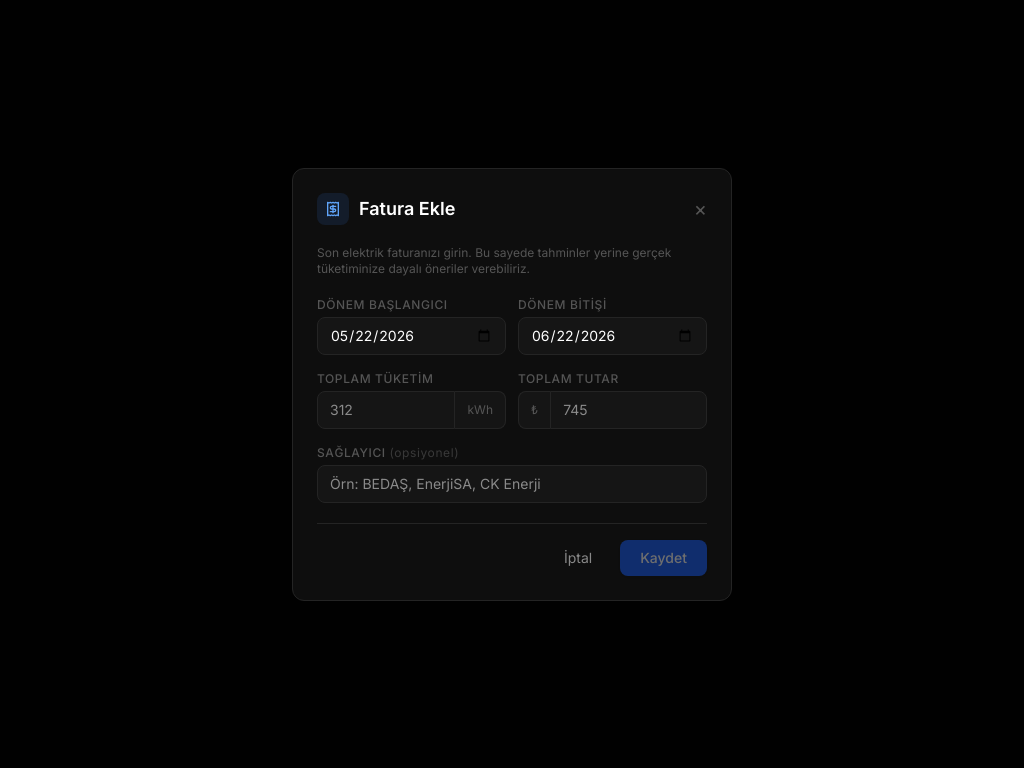
Test case: BillEntryModal › shows generic error on other failures
Type "300" into the number field with placeholder "312" at (386, 410), box left=317, top=390, right=456, bottom=428
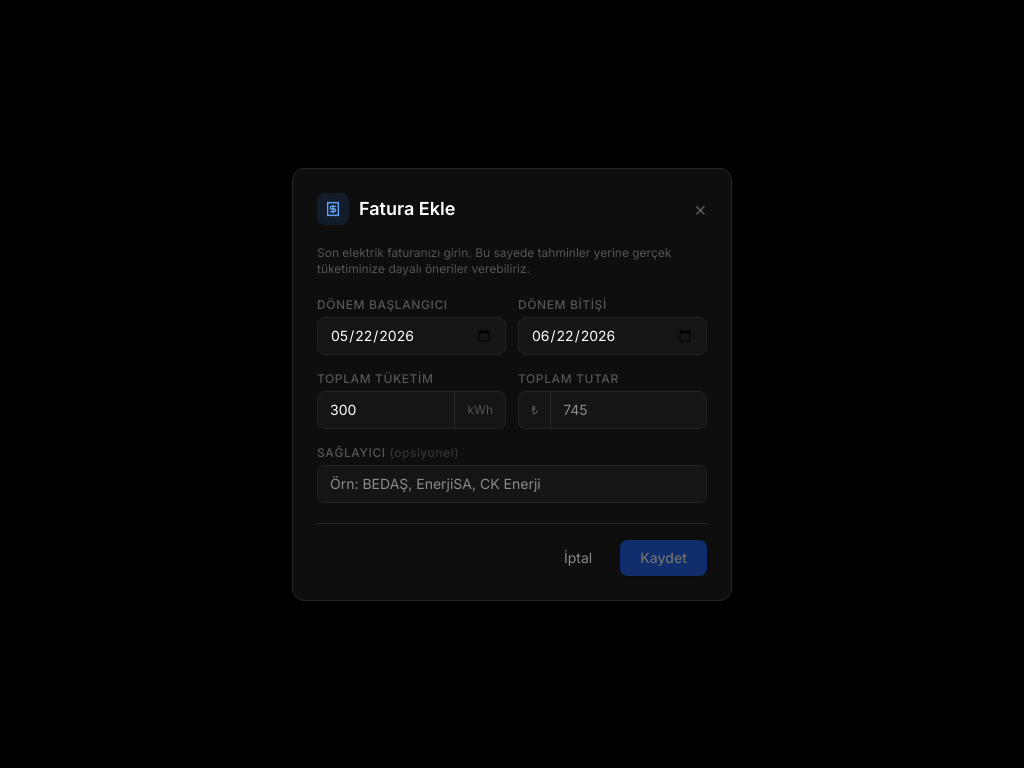
Type "900" into the number field with placeholder "745" at (629, 410), box left=550, top=390, right=707, bottom=428
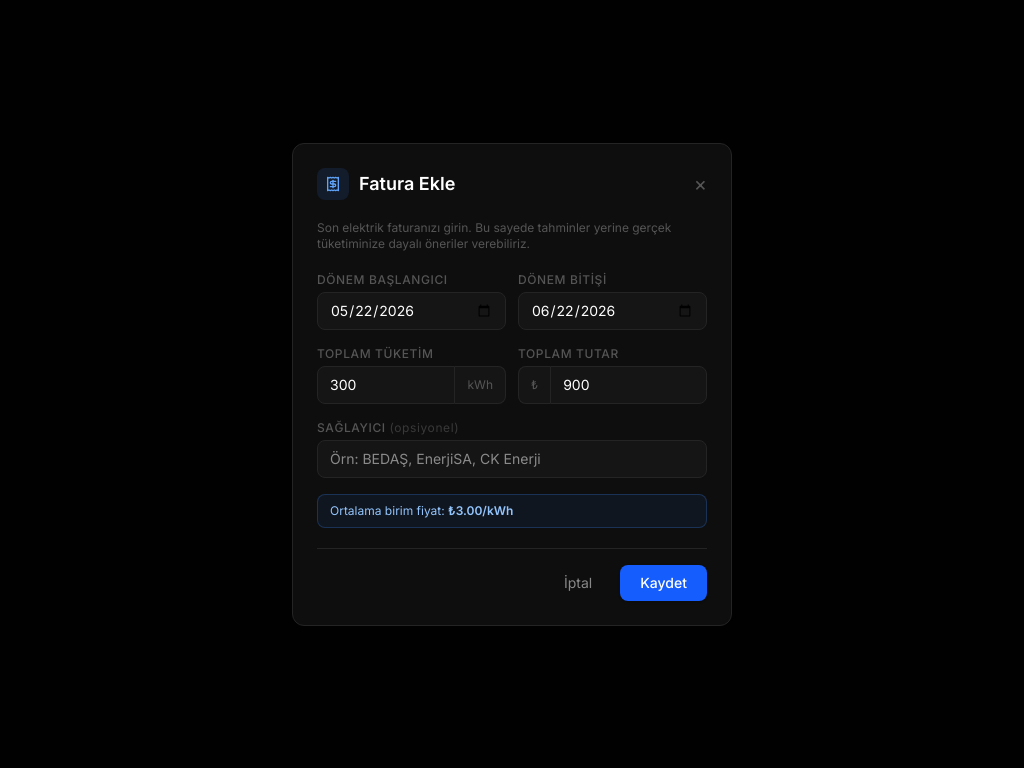
Click the button "Kaydet" at (664, 582), box left=620, top=564, right=707, bottom=600
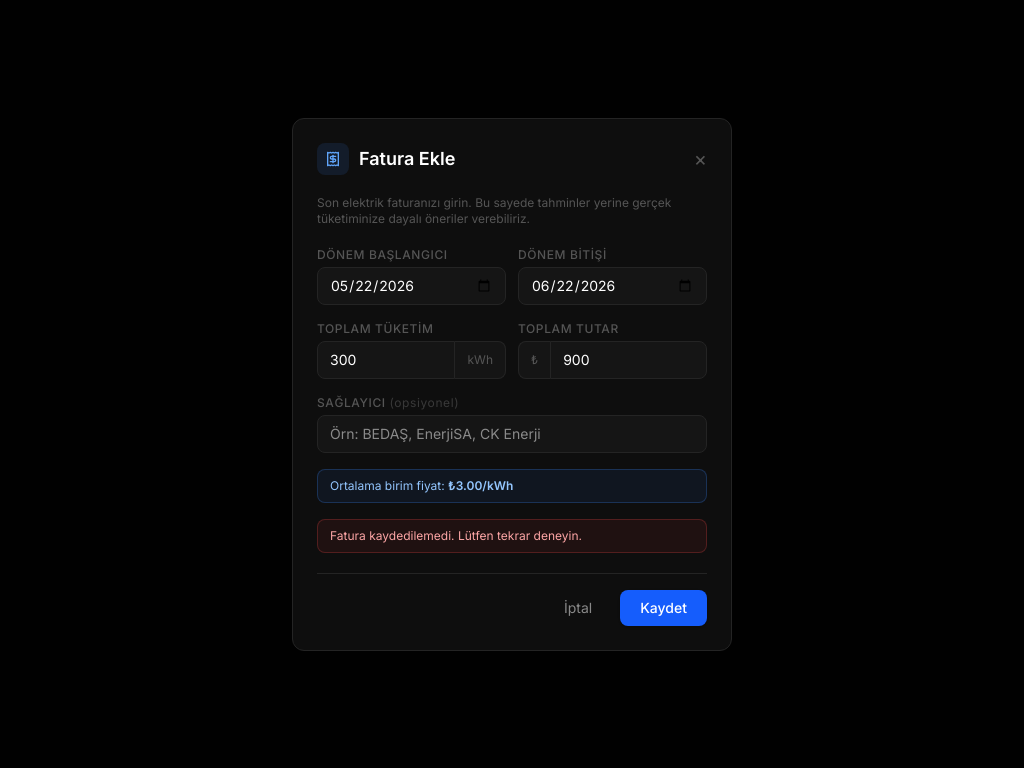
Check: the text "Fatura kaydedilemedi. Lütfen tekrar deneyin." is shown, box left=317, top=518, right=707, bottom=552
